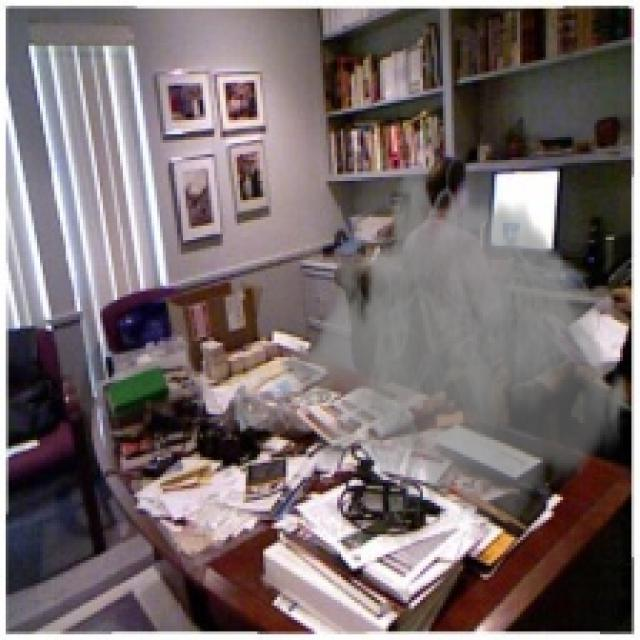smoke: (277, 148, 632, 566)
